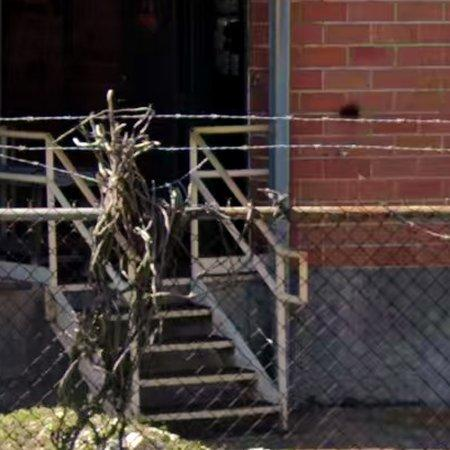stairs: (141, 280, 278, 444)
